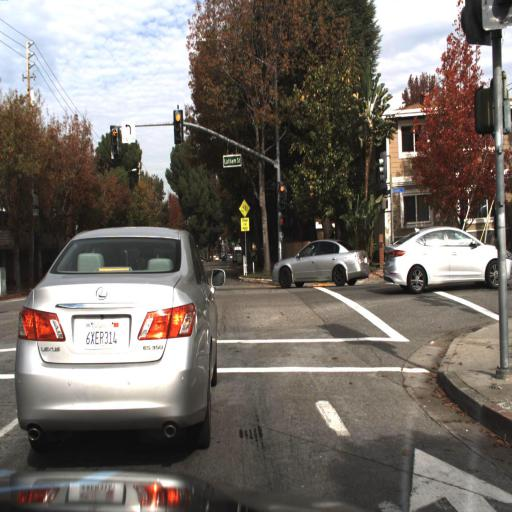car: (11, 225, 219, 446), (381, 223, 511, 294), (269, 238, 369, 289)
trafficLight-Red: (173, 111, 186, 153), (276, 184, 289, 218)
trafficLight-RedLeft: (107, 129, 121, 170)
